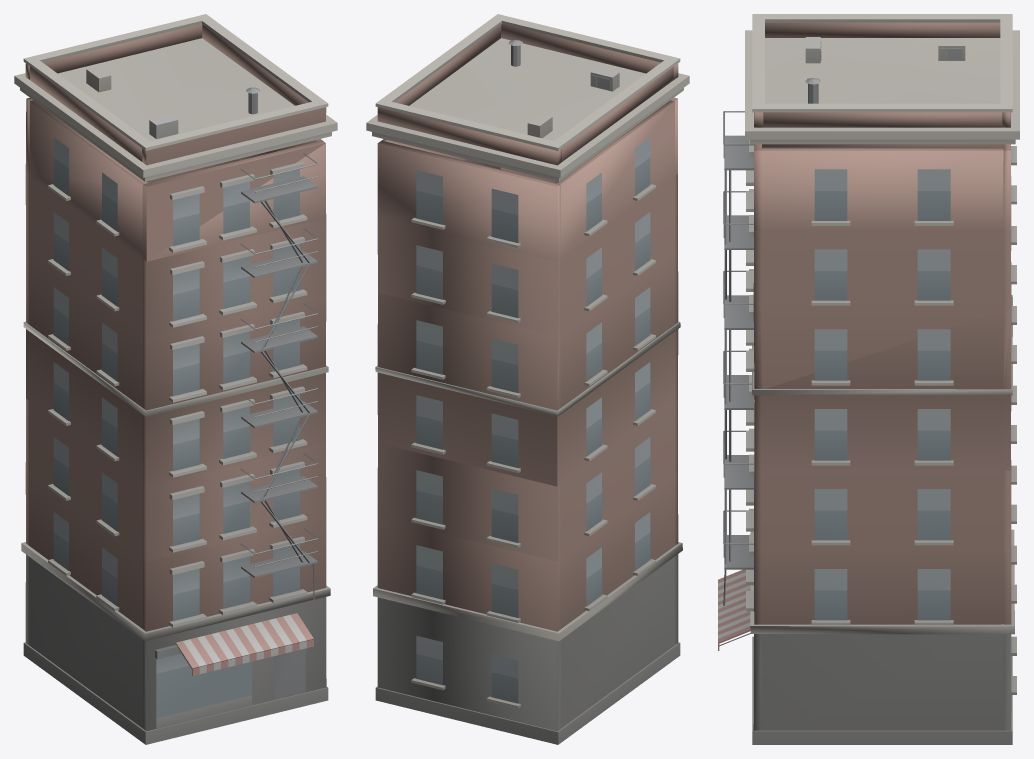
The model's file is tenement.lod1.glb.
3 renders of one model, left to right at view 1: azimuth 30°, elevation 25°; view 2: azimuth 150°, elevation 25°; view 3: azimuth 270°, elevation 25°, orthographic. The views are drawn at different scales.
Bounding box in the file's own units: 8 × 23.7 × 10.11.
